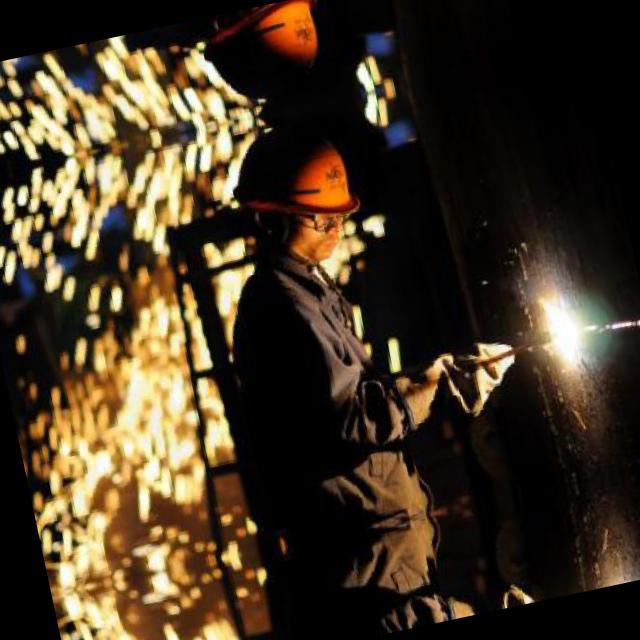helmet: (234, 117, 366, 277), (208, 0, 330, 103)
